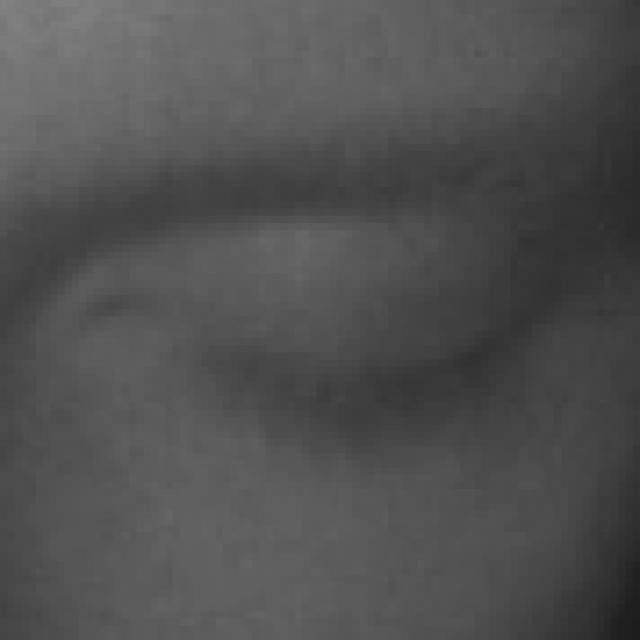Eyeclosed: (186, 244, 605, 504)
